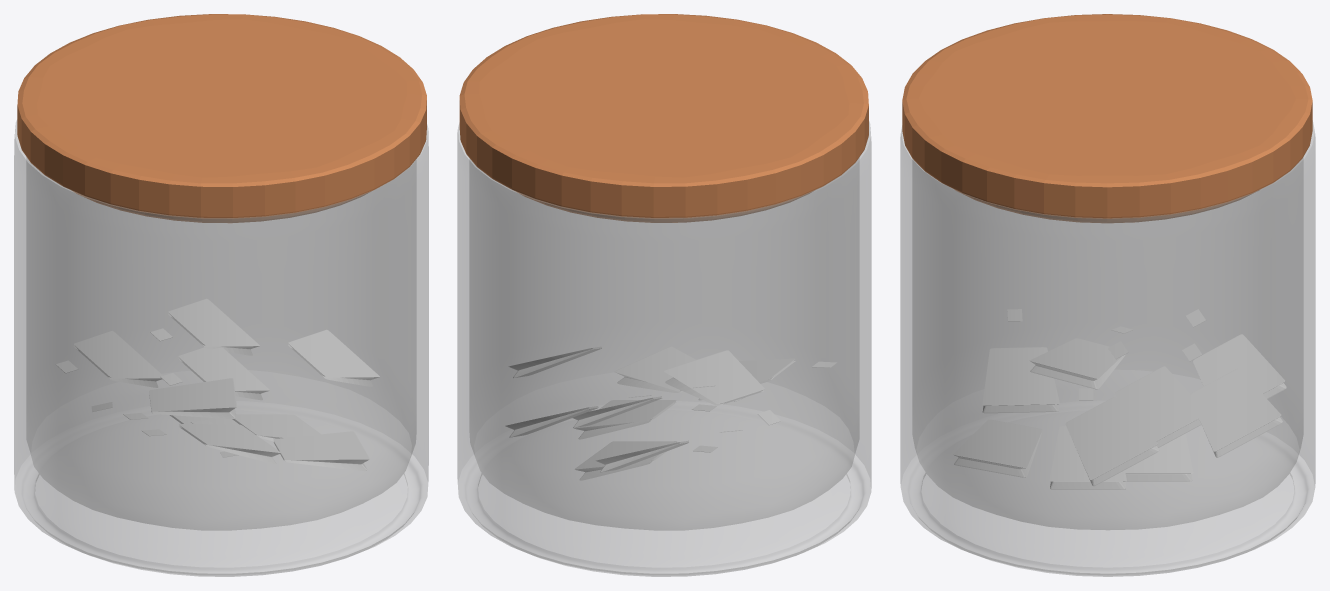
Rendered from Teabag bottle.fbx.
3 views of the same model, side by side, from view 1: azimuth 30°, elevation 25°; view 2: azimuth 150°, elevation 25°; view 3: azimuth 270°, elevation 25° (orthographic).
Visible parts, largest first — view 1: Cylinder, Cylinder.001, Cube.005, Cube.003, Cube.009, Cube.006, Cube.008, Cube.007, Cube.004, Cube.001; view 2: Cylinder, Cylinder.001, Cube.005, Cube.003, Cube.001, Cube.002, Cube.008, Cube.006, Cube.009, Cube.007, Cube.004; view 3: Cylinder, Cylinder.001, Cube.008, Cube.009, Cube.004, Cube.007, Cube.003, Cube.005, Cube.006, Cube.001, Cube.002.
Part boxes in pixels (<box>): Cylinder: <box>14,120,428,576</box>; Cylinder.001: <box>17,14,426,223</box>; Cube.005: <box>149,378,236,418</box>; Cube.003: <box>273,431,369,471</box>; Cube.009: <box>288,330,379,386</box>; Cube.006: <box>74,331,162,387</box>; Cube.008: <box>168,299,259,355</box>; Cube.007: <box>178,347,269,400</box>; Cube.004: <box>179,424,280,464</box>; Cube.001: <box>232,414,320,441</box>; Cylinder: <box>457,121,871,576</box>; Cylinder.001: <box>459,14,868,222</box>; Cube.005: <box>664,350,764,405</box>; Cube.003: <box>614,346,695,392</box>; Cube.001: <box>573,400,676,439</box>; Cube.002: <box>575,441,676,480</box>; Cube.008: <box>505,406,598,437</box>; Cube.006: <box>596,440,688,472</box>; Cube.009: <box>508,346,601,377</box>; Cube.007: <box>572,396,661,427</box>; Cube.004: <box>699,358,795,400</box>; Cylinder: <box>900,121,1315,576</box>; Cylinder.001: <box>902,14,1312,223</box>; Cube.008: <box>1189,368,1282,457</box>; Cube.009: <box>1065,397,1159,485</box>; Cube.004: <box>982,347,1059,413</box>; Cube.007: <box>1115,366,1201,447</box>; Cube.003: <box>953,419,1042,477</box>; Cube.005: <box>1030,338,1125,389</box>; Cube.006: <box>1193,334,1286,398</box>; Cube.001: <box>1049,426,1126,489</box>; Cube.002: <box>1125,433,1192,481</box>.
Bounding box in the file's own units: 176 × 185 × 176.
